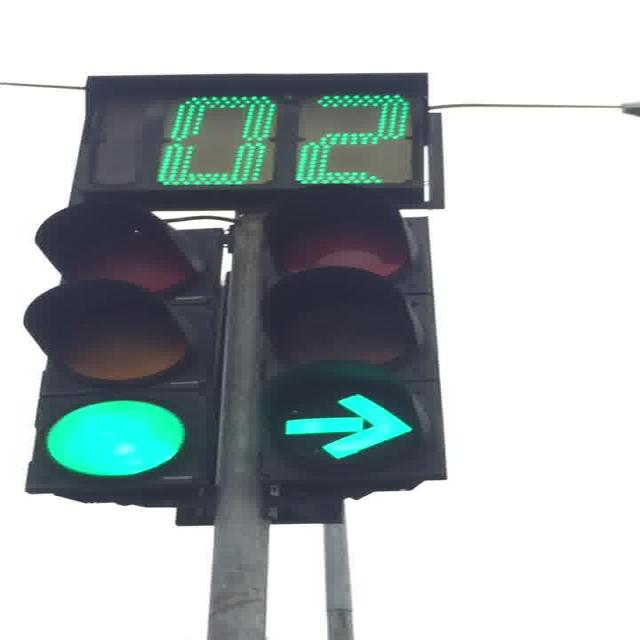traffic light: (23, 203, 230, 508), (251, 209, 448, 521)
